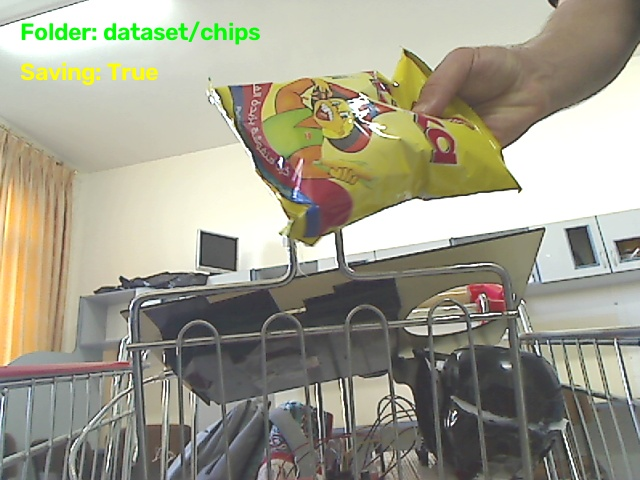chips: (209, 51, 518, 244)
